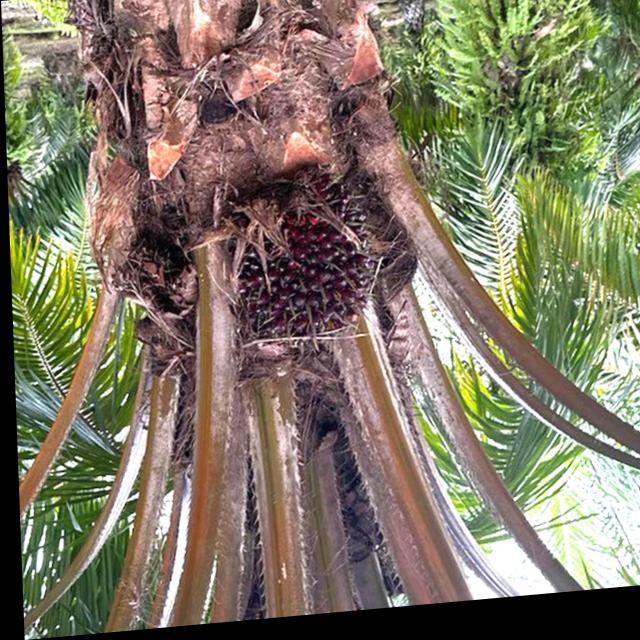ripe: (198, 158, 385, 381)
